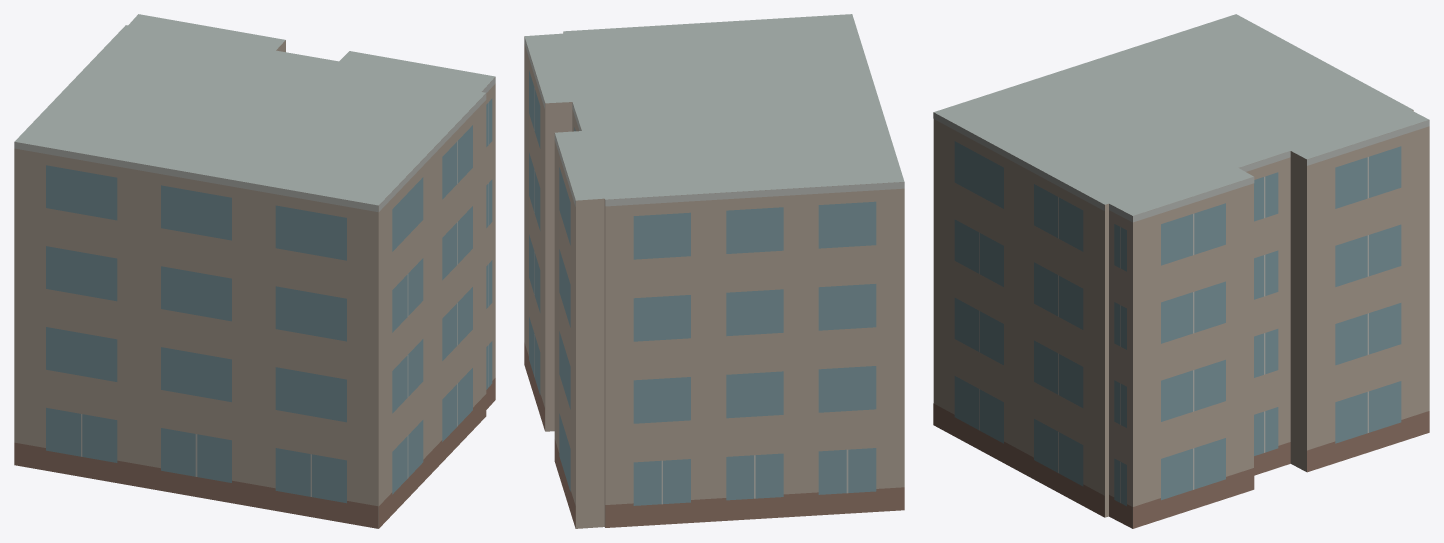
File: survey-upis-32744852.glb
The picture shows the model from 3 angles, left to right: view 1: azimuth 30°, elevation 25°; view 2: azimuth 150°, elevation 25°; view 3: azimuth 270°, elevation 25°; orthographic projection. The views are drawn at different scales.
Parts seen in each view (by area): view 1: survey-upis-32744852.tmp; view 2: survey-upis-32744852.tmp; view 3: survey-upis-32744852.tmp.
Boxes of the visible parts, box(x1,y1,x2,y2) form: survey-upis-32744852.tmp: box(14, 14, 495, 528); survey-upis-32744852.tmp: box(524, 14, 904, 528); survey-upis-32744852.tmp: box(933, 14, 1429, 528).
Size of the model in its own units: 16.21 by 11.7 by 16.82.
